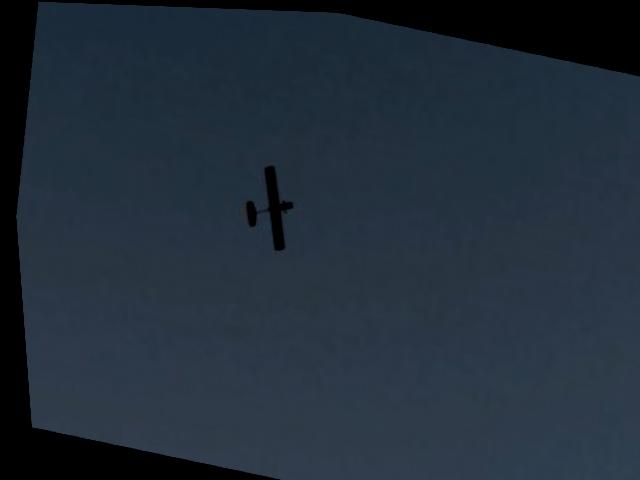uav: (216, 147, 312, 255)
